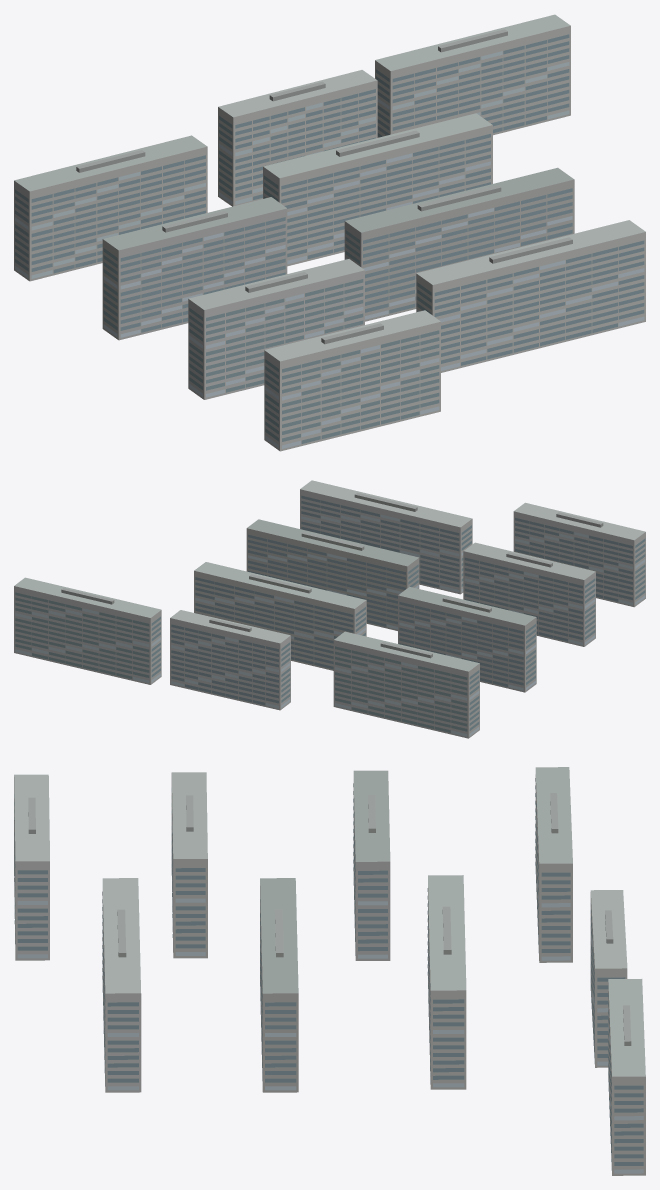
The model's file is apt-a14024002.glb.
The picture shows the model from 3 angles, top to bottom: view 1: azimuth 30°, elevation 25°; view 2: azimuth 150°, elevation 25°; view 3: azimuth 270°, elevation 25°; orthographic projection. The views are drawn at different scales.
Visible parts, largest first — view 1: apt-a14024002; view 2: apt-a14024002; view 3: apt-a14024002.
Boxes of the visible parts, box(x1,y1,x2,y2) form: apt-a14024002: box(14, 14, 645, 451); apt-a14024002: box(14, 480, 645, 738); apt-a14024002: box(14, 767, 645, 1175).
Bounding box in the file's own units: 266 × 41.42 × 229.
